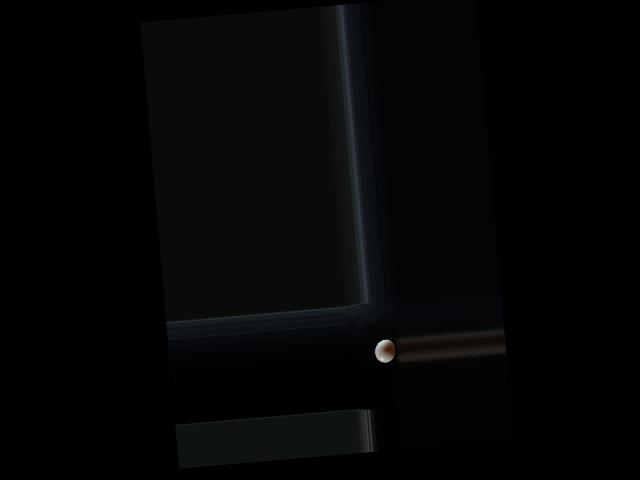egg: (373, 338, 396, 363)
